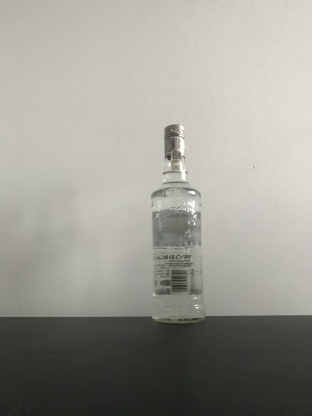nakretka: (162, 121, 187, 159)
